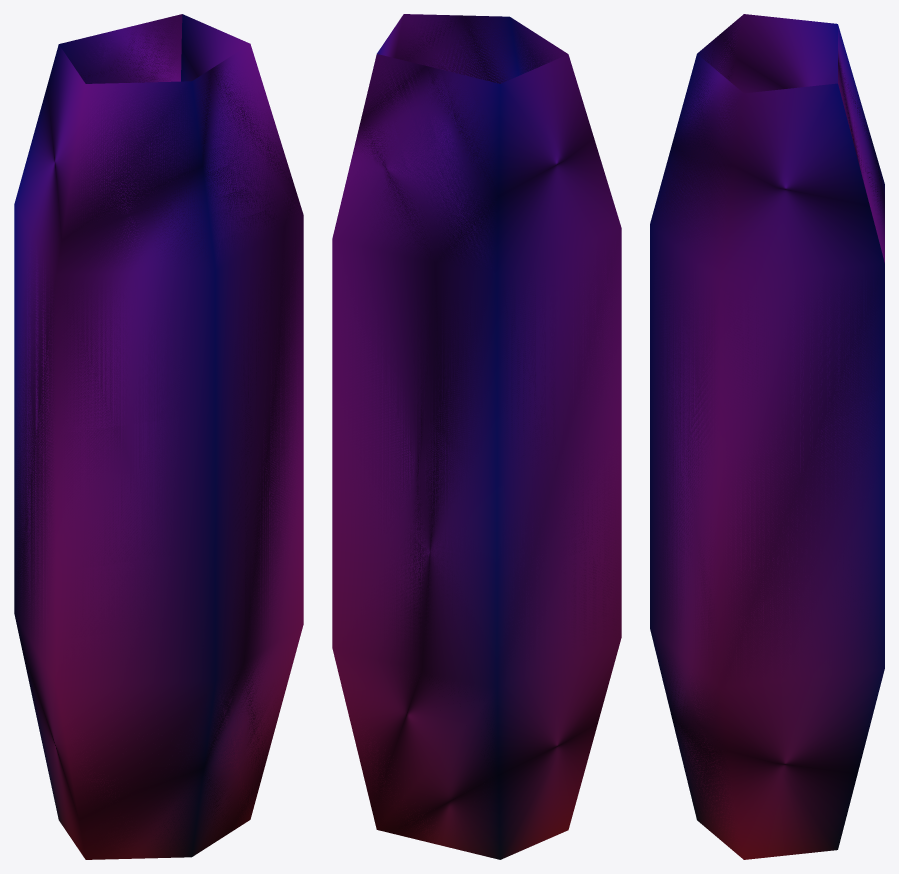
3 renders of one model, left to right at view 1: azimuth 30°, elevation 25°; view 2: azimuth 150°, elevation 25°; view 3: azimuth 270°, elevation 25°, orthographic.
Visible parts, largest first — view 1: part; view 2: part; view 3: part.
Part boxes in pixels (bbox=[...]): part: bbox=[14, 14, 303, 859]; part: bbox=[332, 14, 621, 859]; part: bbox=[650, 14, 884, 859].
Size of the model in its own units: 1548 by 4644 by 1290.
